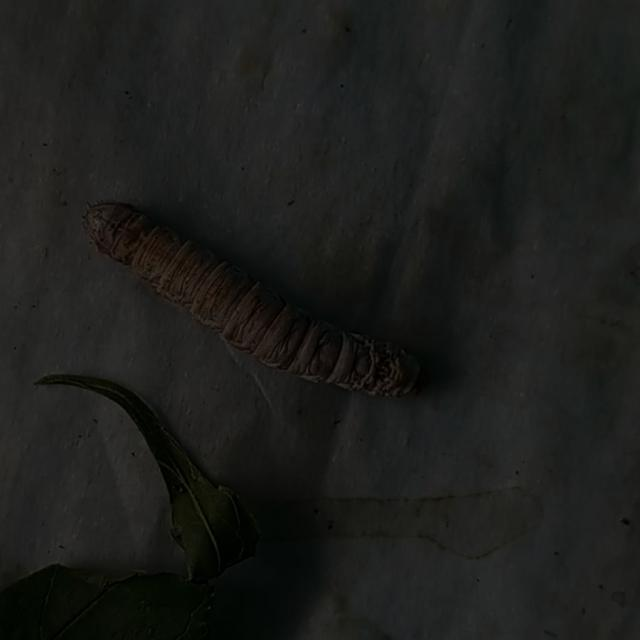Grasserie: (51, 168, 440, 418)
